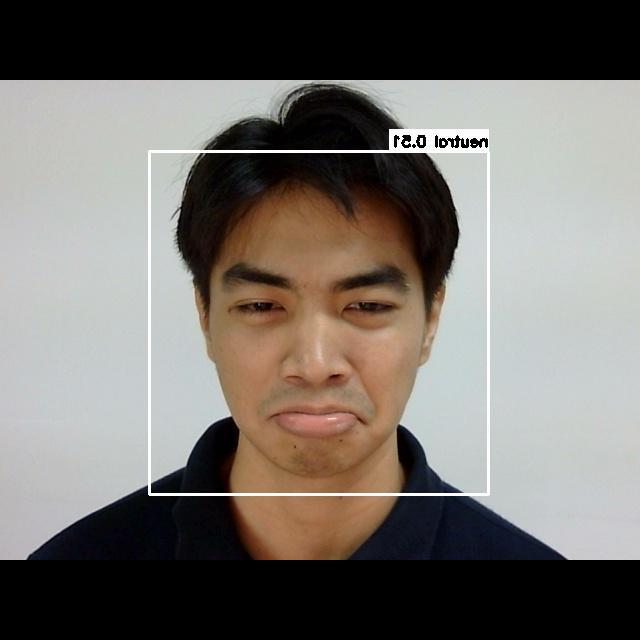Sad: (190, 227, 429, 449)
